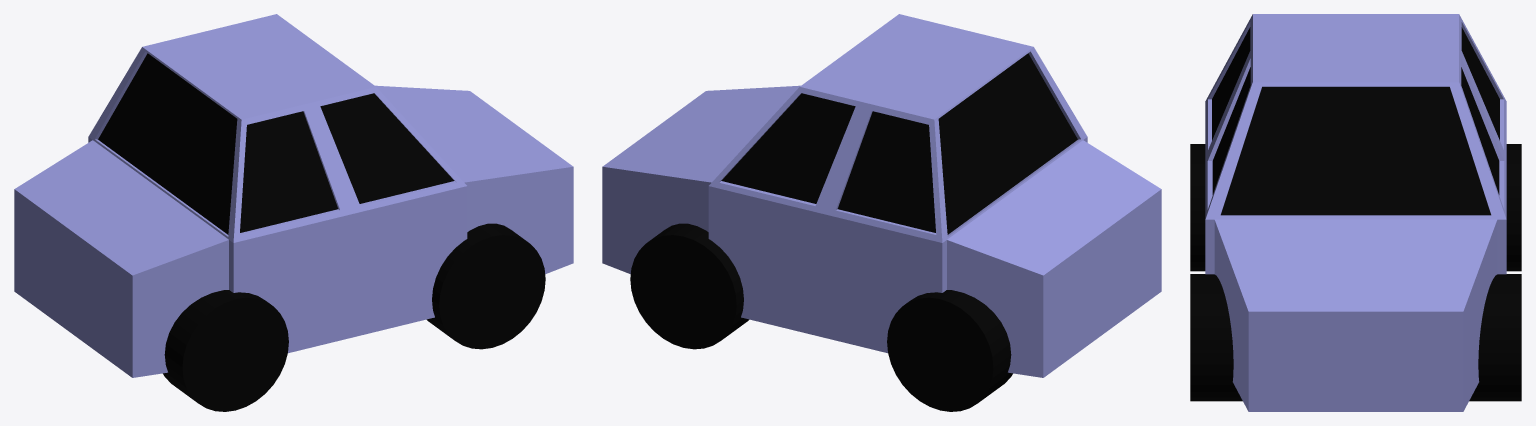
Rendered from Car.gltf.
The picture shows the model from 3 angles, left to right: view 1: azimuth 30°, elevation 25°; view 2: azimuth 150°, elevation 25°; view 3: azimuth 270°, elevation 25°; orthographic projection. The views are drawn at different scales.
Visible parts, largest first — view 1: CarBody; view 2: CarBody; view 3: CarBody.
Part boxes in pixels (x1,y1,x2,y2): CarBody: (14, 14, 573, 411); CarBody: (602, 14, 1161, 411); CarBody: (1190, 14, 1521, 411).
Size of the model in its own units: 7.6 by 4.21 by 4.69.
